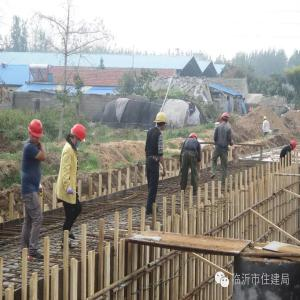red: (68, 123, 86, 148), (30, 119, 44, 146), (190, 132, 199, 142), (222, 113, 229, 124), (290, 141, 297, 152)
yellow: (155, 111, 168, 132), (264, 117, 268, 121)
